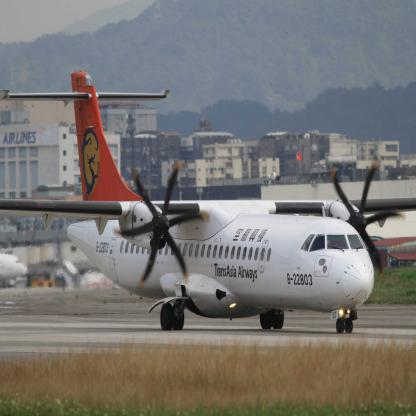CIV_Plane: (1, 66, 415, 342)
